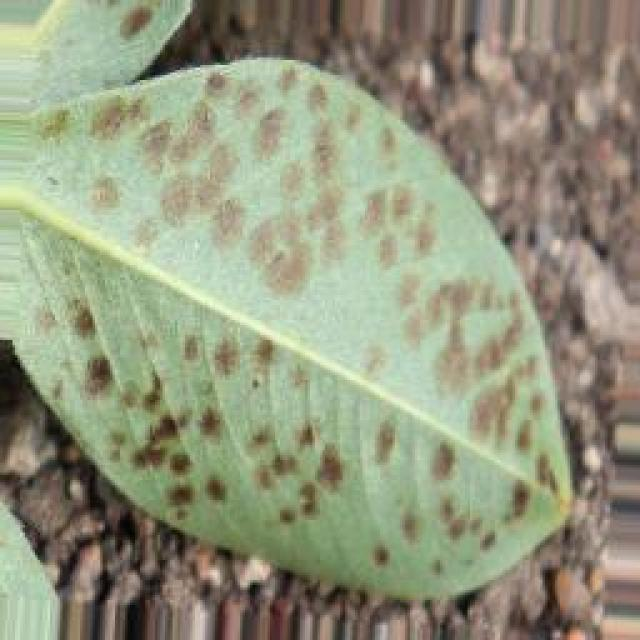Whitefly: (0, 56, 579, 616)
